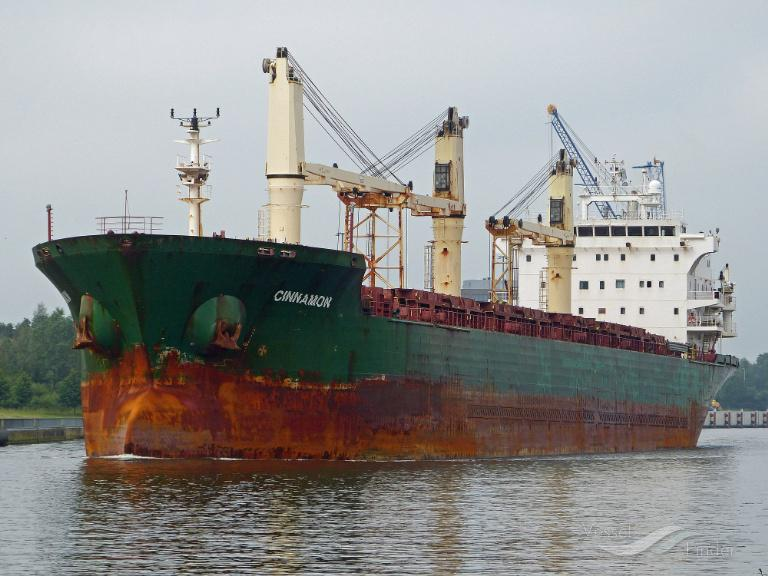OCR: (266, 286, 337, 319)
